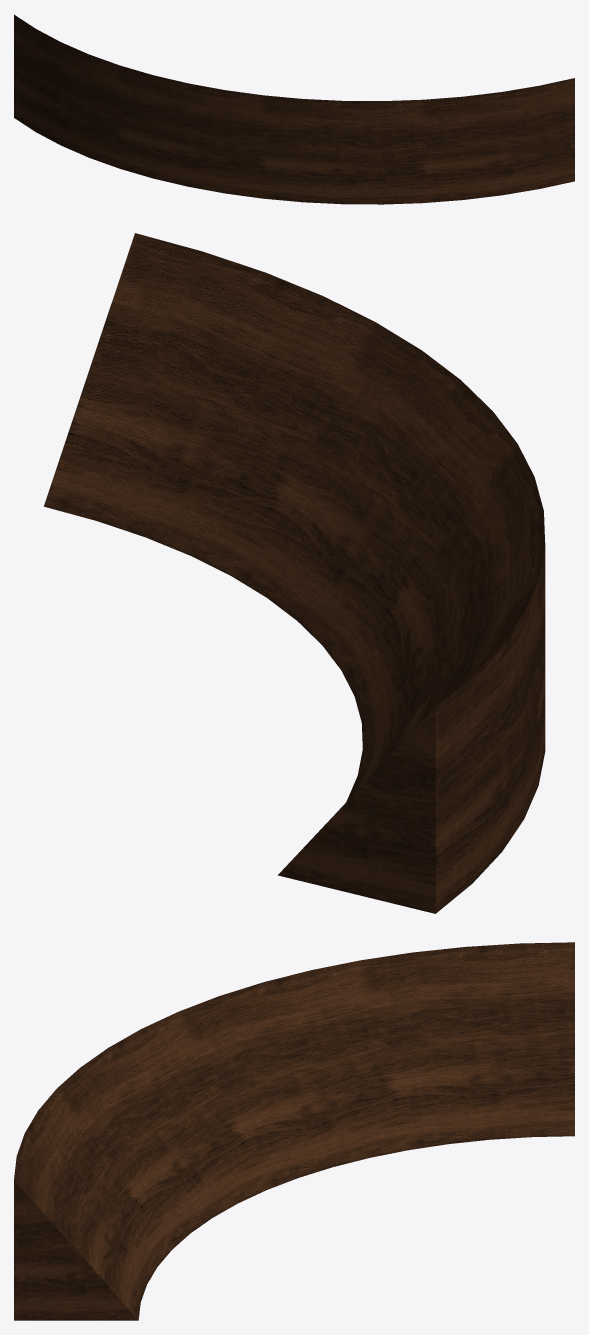
Rendered from SecondRamp.glb.
3 views of the same model, one above another, from view 1: azimuth 30°, elevation 25°; view 2: azimuth 150°, elevation 25°; view 3: azimuth 270°, elevation 25° (orthographic). The views are drawn at different scales.
Parts seen in each view (by area): view 1: ramp; view 2: ramp; view 3: ramp.
Part boxes in pixels (bbox=[...]): ramp: bbox=[14, 14, 574, 204]; ramp: bbox=[44, 233, 545, 913]; ramp: bbox=[14, 942, 574, 1320].
Size of the model in its own units: 1152 by 320 by 1152.
Materials: 1 (1 with a texture image).
